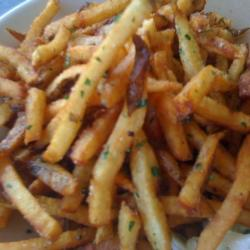fries: (25, 28, 229, 213)
